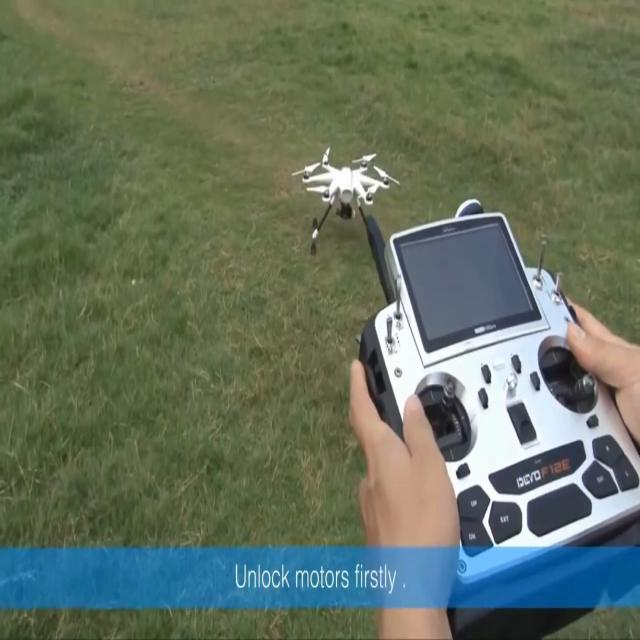drone: (292, 145, 401, 257)
